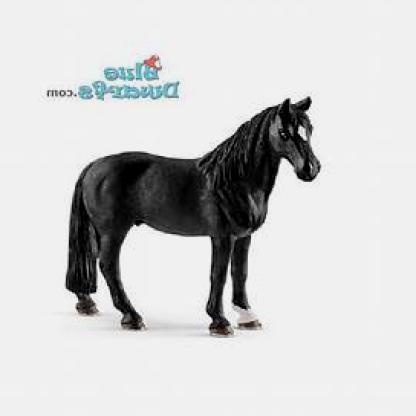horse: (64, 93, 321, 338)
